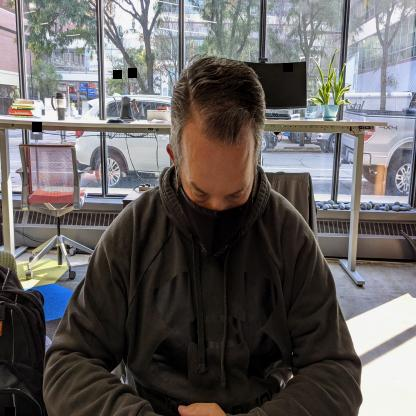mask: (170, 125, 260, 260)
